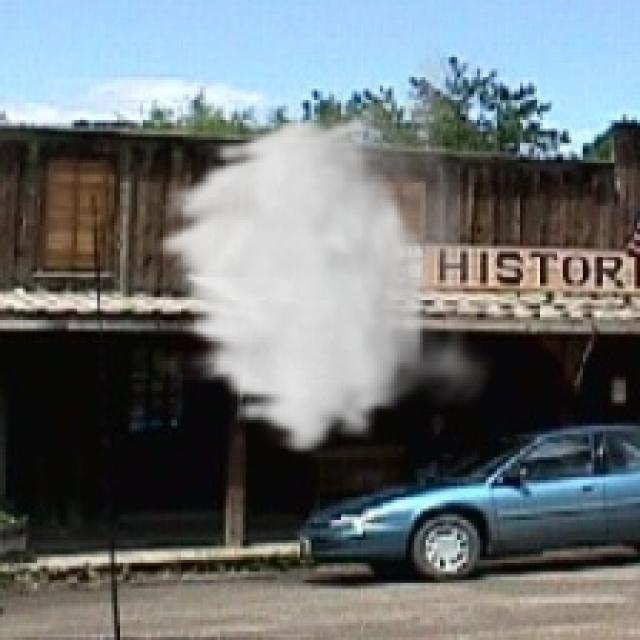Smoke: (148, 42, 498, 458)
